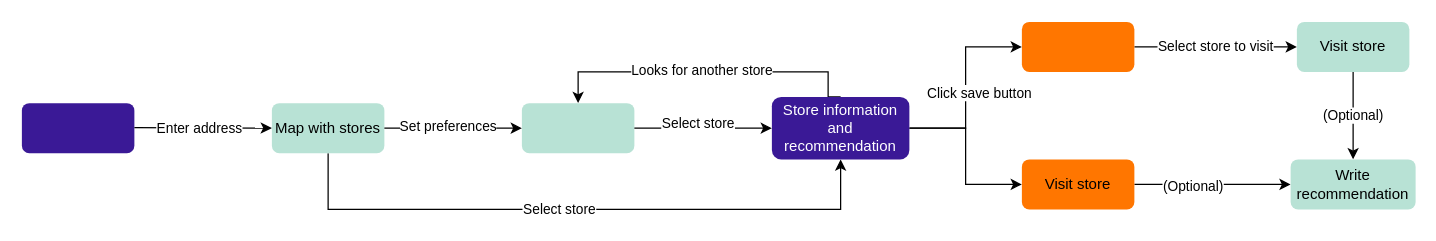
Image size: 1436x241. Some labels were removed from this diagram. Each missing label, with the centre of its shape:
"Homepage" goes at point (77, 127).
"List of saved stores" goes at point (1077, 46).
"Map with specific stores" goes at point (577, 127).
